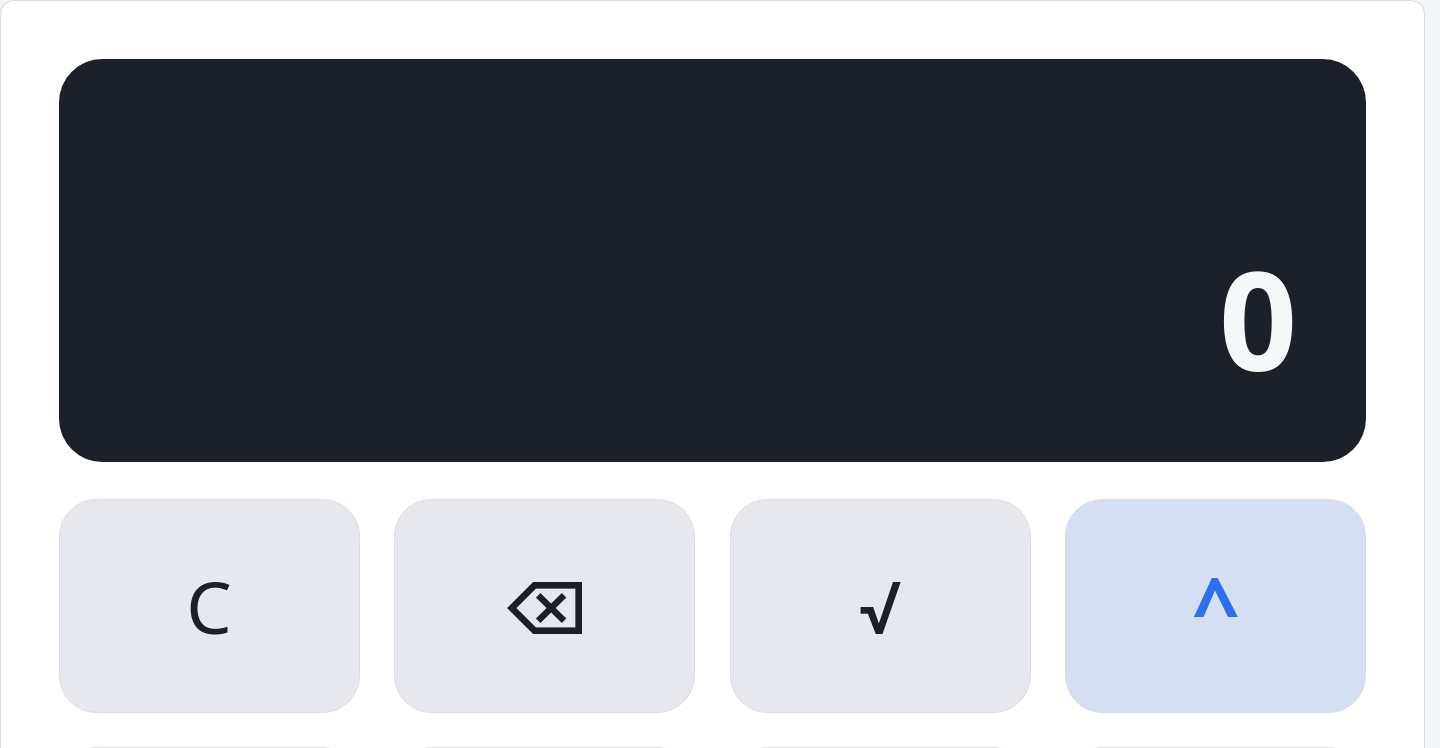
Test case: <Calculator /> › Clear and Backspace edit the entry
Type keys "789"
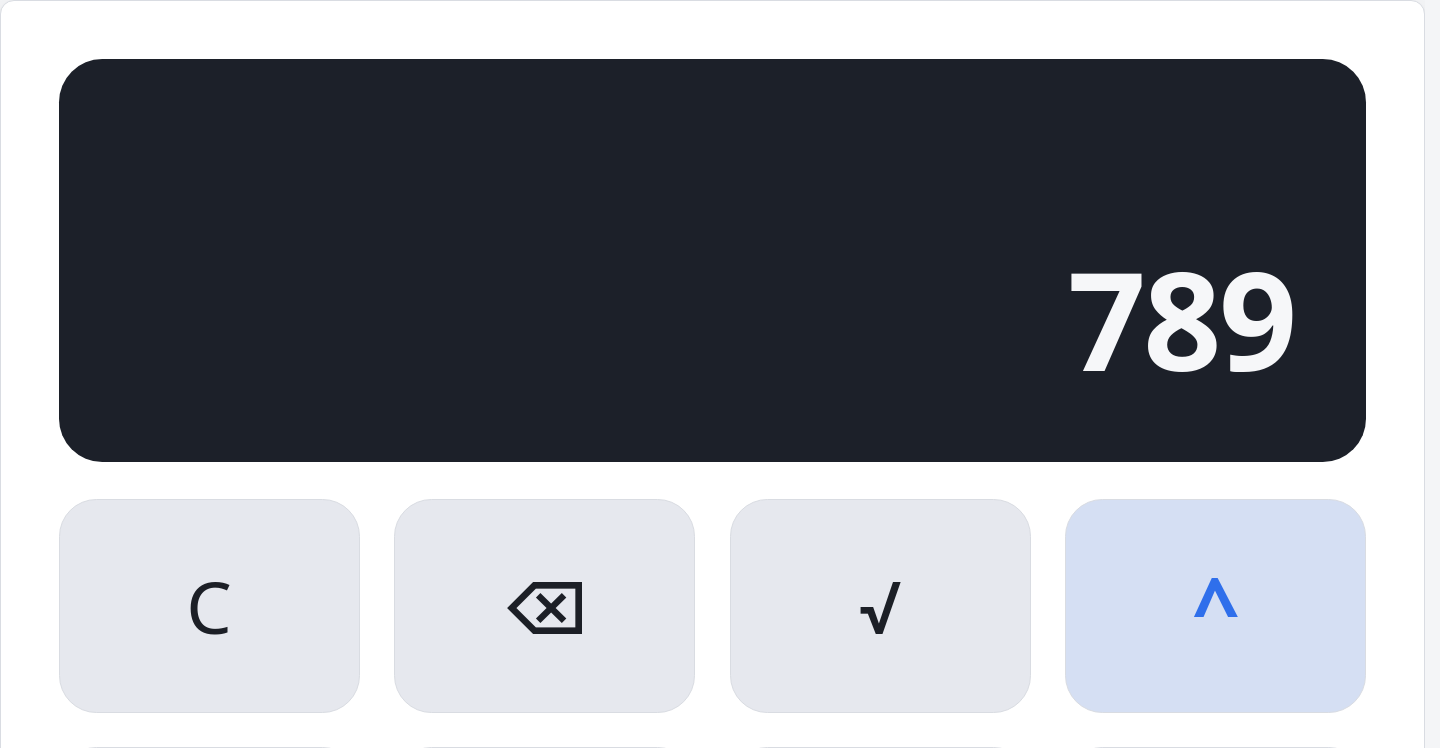
Expected: the text "789" is shown, [1068,240,1294,397]
Click the button named "Backspace".
click(545, 606)  # box [394,499,695,713]
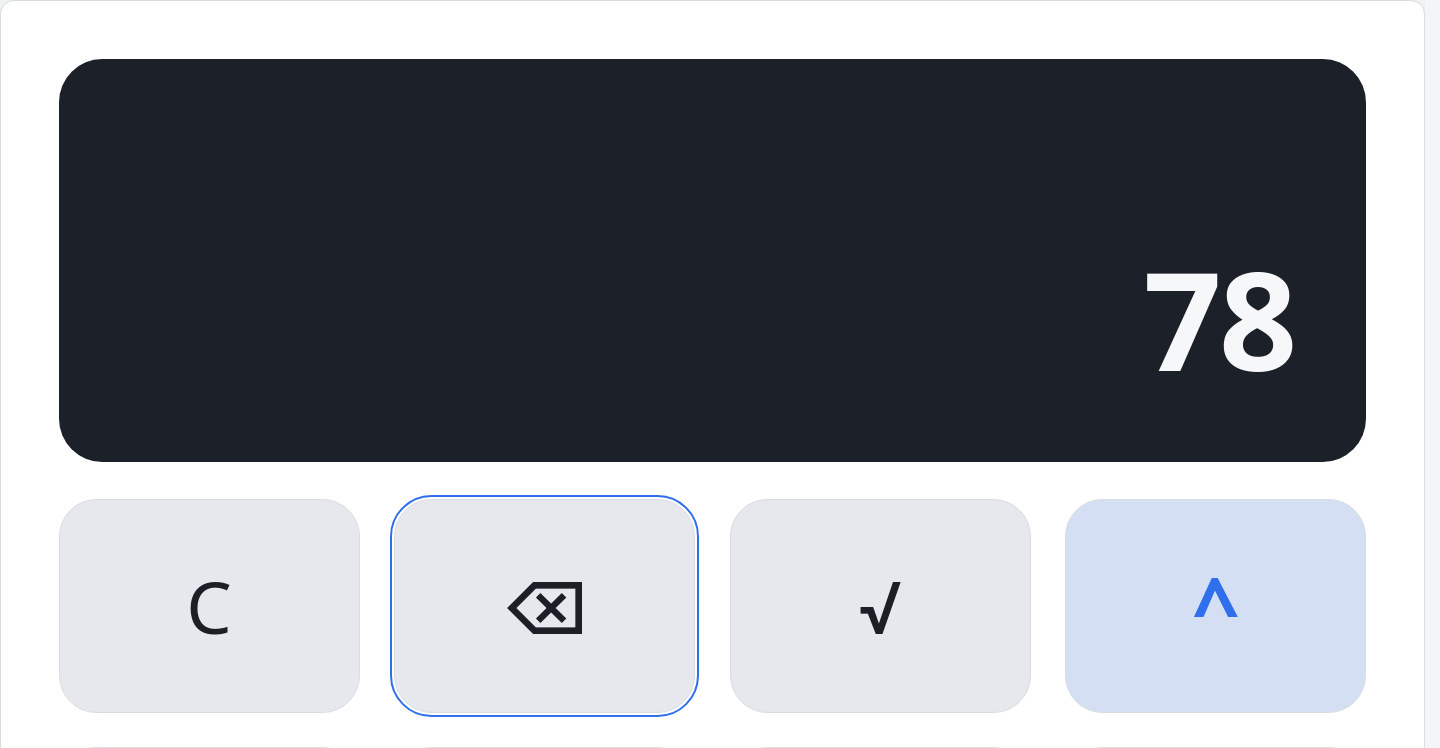
Expected: the text "78" is shown, [1143,240,1294,397]
Click the button named "Clear".
click(209, 606)  # box [59,499,360,713]
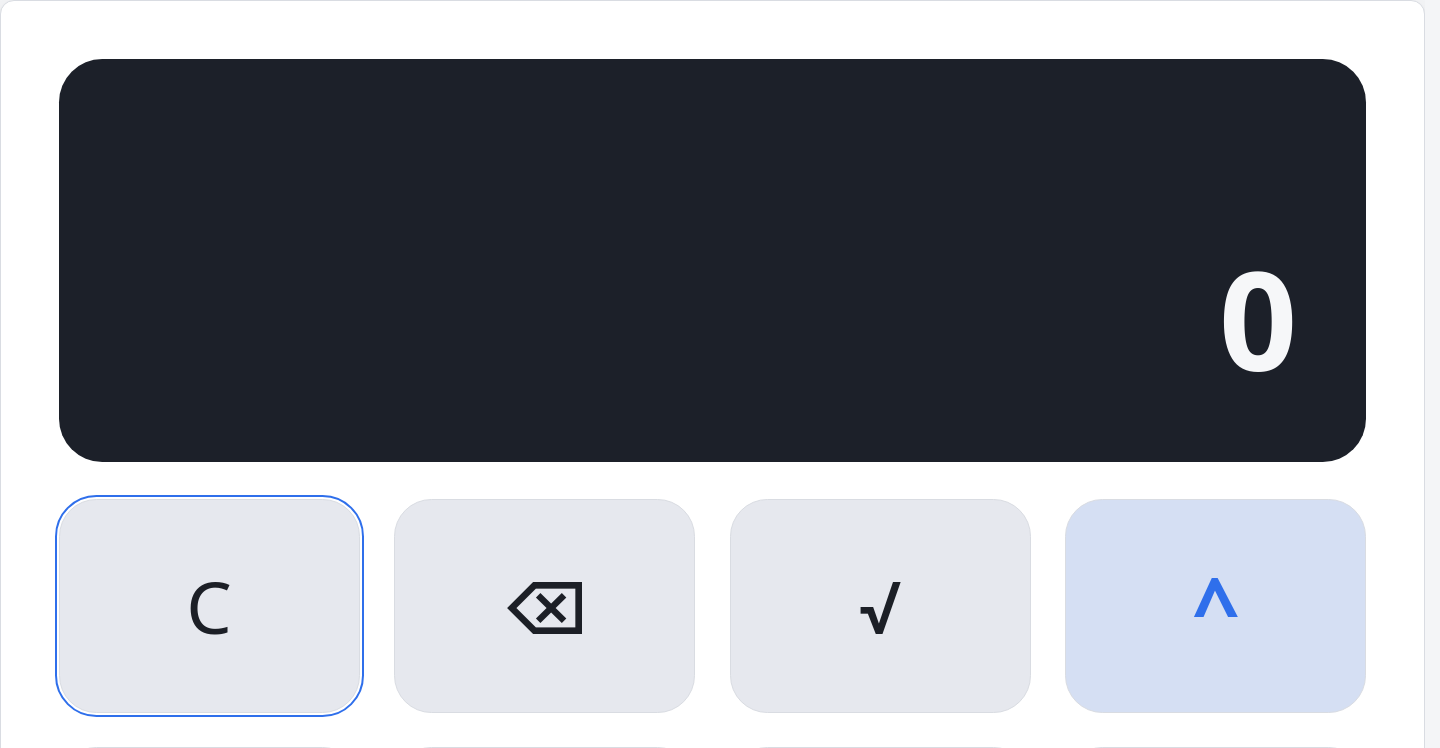
Expected: the text "0" is shown, [1219,240,1294,397]
